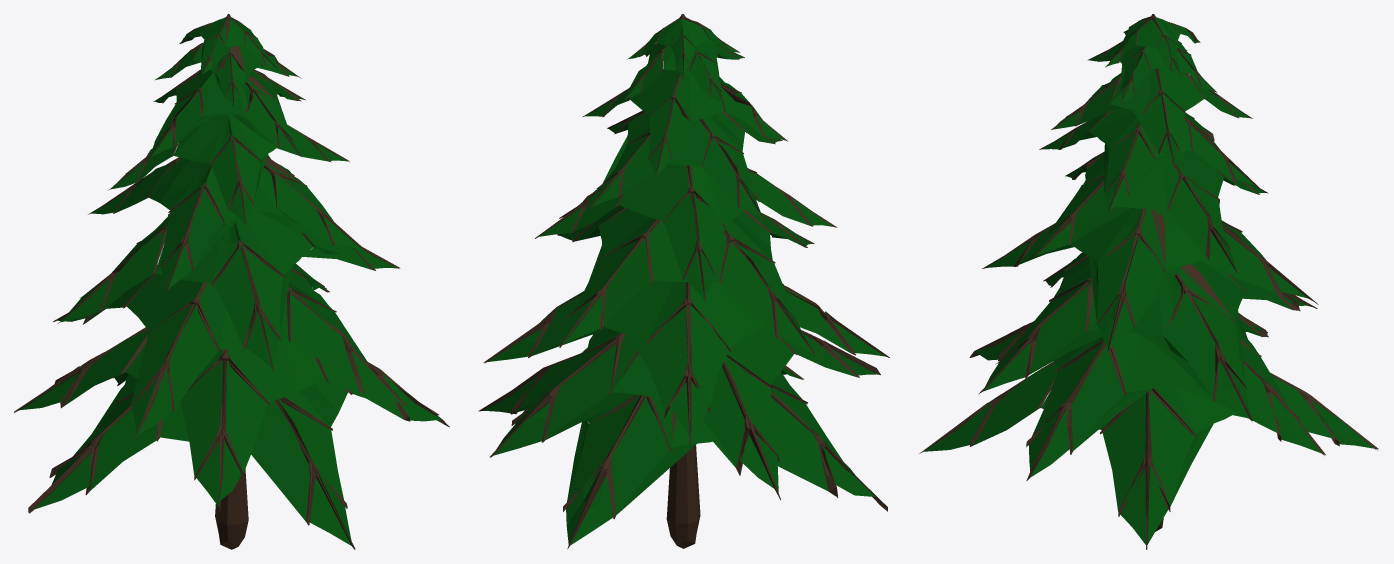
Rendered from Low-poly pine tree.fbx.
3 views of the same model, side by side, from view 1: azimuth 30°, elevation 25°; view 2: azimuth 150°, elevation 25°; view 3: azimuth 270°, elevation 25° (orthographic). The views are drawn at different scales.
Parts seen in each view (by area): view 1: Cube; view 2: Cube; view 3: Cube.
Boxes of the visible parts, x1,y1,x2,y2 form: Cube: (14,14,449,549); Cube: (478,14,889,549); Cube: (919,14,1378,549).
Size of the model in its own units: 759 by 946 by 759.
